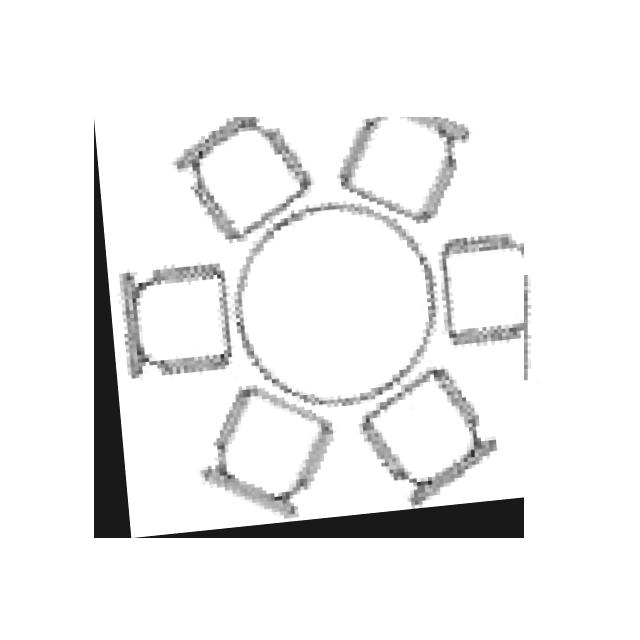table: (94, 117, 524, 538)
